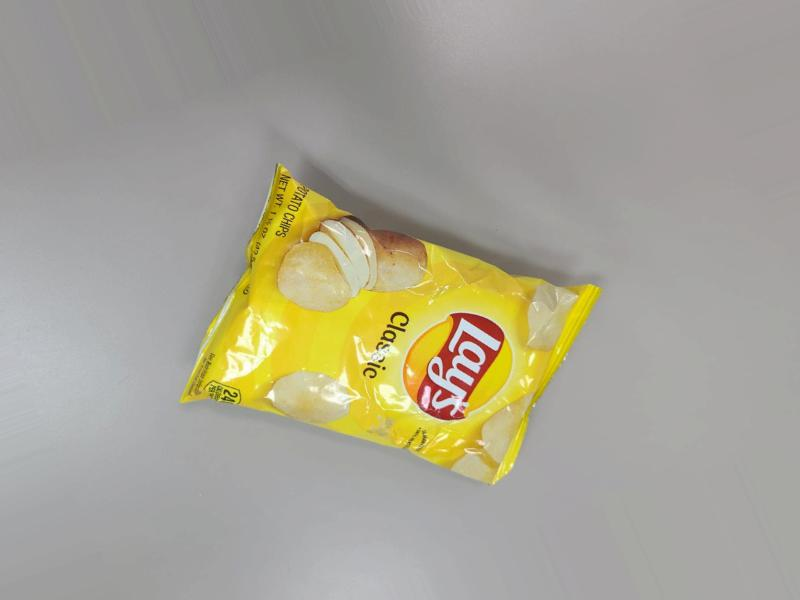lays: (190, 151, 592, 493)
